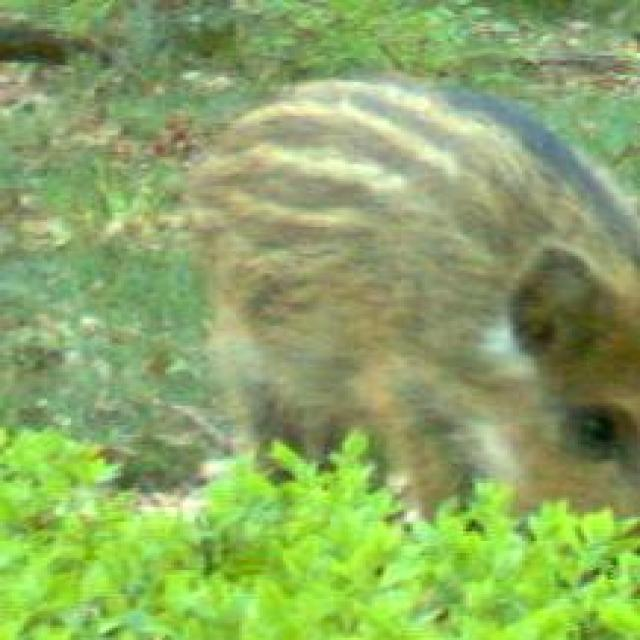pig: (188, 66, 640, 531)
